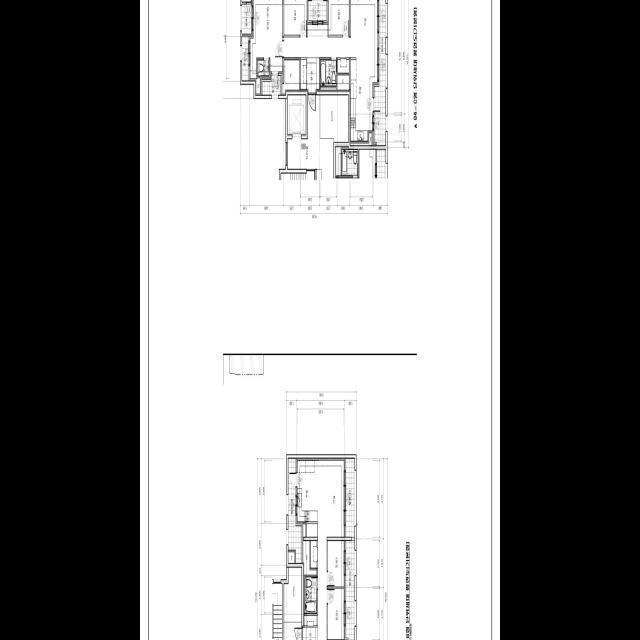background: (140, 0, 500, 640)
space_balconi: (374, 0, 386, 145), (288, 458, 302, 562), (346, 540, 355, 640), (346, 458, 355, 536), (262, 75, 281, 95), (309, 0, 327, 20), (377, 149, 387, 177), (242, 36, 248, 80), (242, 4, 251, 33)
space_bedroom: (249, 0, 282, 81), (328, 588, 345, 639), (284, 0, 308, 34), (328, 540, 345, 586), (328, 0, 349, 34)
space_elevator: (288, 95, 306, 134)
space_elevator_hall: (288, 94, 334, 179)
space_front: (307, 57, 319, 93), (303, 615, 318, 640)
space_kitchen: (349, 59, 378, 140), (296, 457, 318, 524)
space_living_room: (284, 0, 378, 59), (318, 457, 345, 640), (359, 149, 375, 177)
space_other: (320, 95, 348, 141), (284, 567, 302, 621), (281, 59, 300, 95), (302, 540, 317, 574), (350, 132, 372, 145), (337, 75, 349, 91), (311, 540, 317, 567), (301, 59, 306, 91), (338, 58, 349, 72), (336, 146, 341, 175), (307, 523, 317, 536), (255, 77, 260, 95), (288, 552, 295, 562), (302, 523, 306, 536)
space_staircase: (272, 583, 282, 640), (281, 170, 314, 180)
space_toilet: (305, 577, 317, 612), (342, 149, 358, 175), (321, 60, 336, 85), (258, 59, 269, 75)
